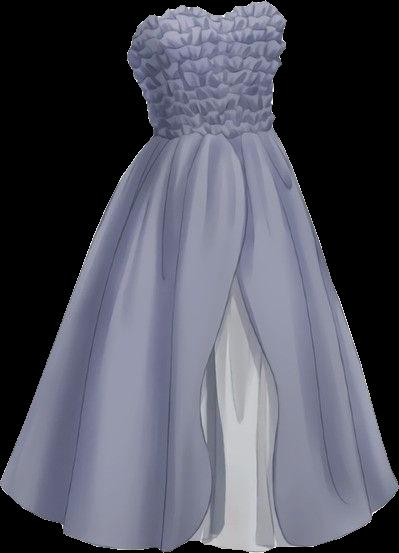Bodice: (127, 1, 286, 141)
Hemline: (0, 138, 250, 552), (234, 289, 398, 547), (0, 482, 398, 552)
Neckline: (123, 0, 288, 60)
Skirt: (0, 130, 398, 552)
Waistline: (150, 127, 275, 146)
